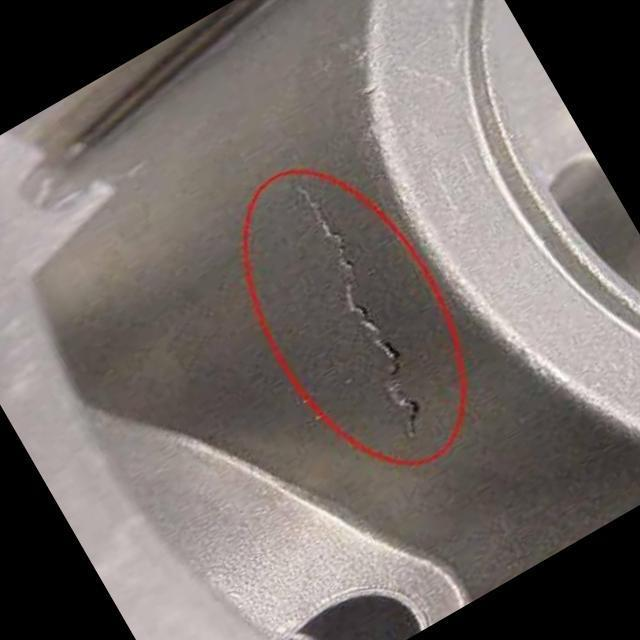defect: (287, 177, 425, 447)
